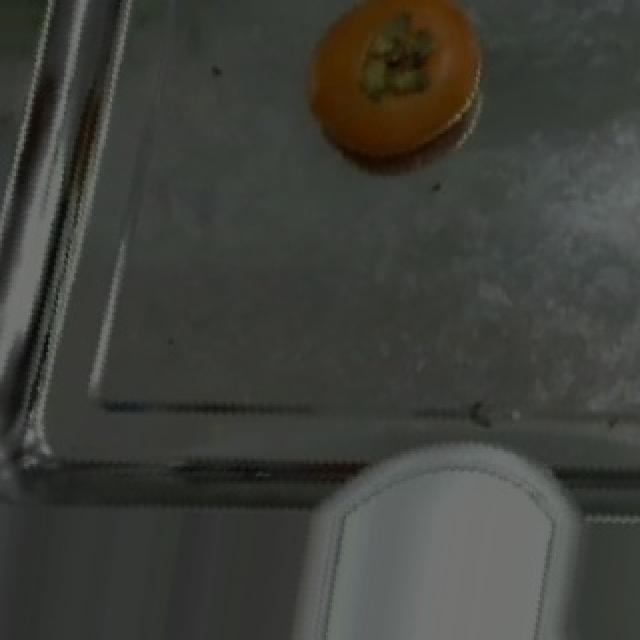Fruit: (304, 444, 564, 640), (278, 0, 508, 189)
